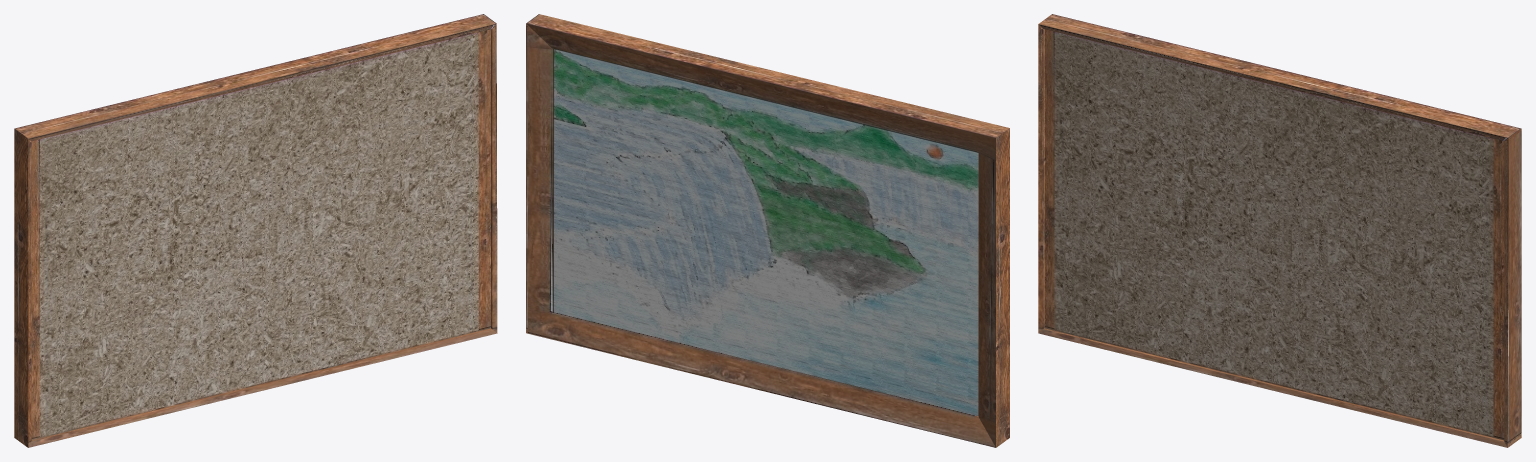
Rendered from pictureframe.glb.
3 views of the same model, side by side, from view 1: azimuth 30°, elevation 25°; view 2: azimuth 150°, elevation 25°; view 3: azimuth 330°, elevation 25° (orthographic).
Parts seen in each view (by area): view 1: Box001_09 - Default_0; view 2: Box001_09 - Default_0; view 3: Box001_09 - Default_0.
Boxes of the visible parts, left/top/right/bottom form: Box001_09 - Default_0: left=14, top=14, right=497, bottom=447; Box001_09 - Default_0: left=526, top=14, right=1009, bottom=447; Box001_09 - Default_0: left=1038, top=14, right=1521, bottom=447.
Bounding box in the file's own units: 6.95 × 4.38 × 0.3513.
Materials: 1 (1 with a texture image).
